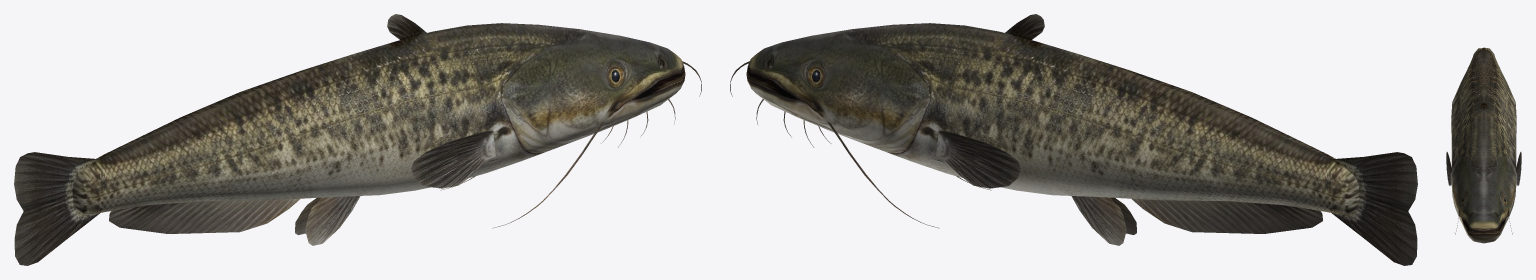
The model's file is WelsCatfish.glb.
3 renders of one model, left to right at view 1: azimuth 30°, elevation 25°; view 2: azimuth 150°, elevation 25°; view 3: azimuth 270°, elevation 25°, orthographic. The views are drawn at different scales.
Parts seen in each view (by area): view 1: WelsCatfish; view 2: WelsCatfish; view 3: WelsCatfish.
Part boxes in pixels (<box>): WelsCatfish: <box>14,14,701,265</box>; WelsCatfish: <box>730,14,1417,265</box>; WelsCatfish: <box>1446,47,1521,243</box>.
Bounding box in the file's own units: 2 × 0.5911 × 0.3365.
1 material, 1 textured.
